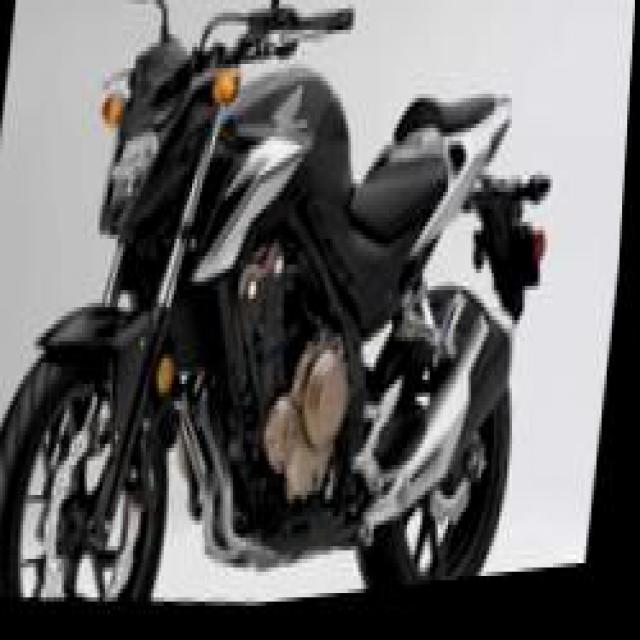CB500F: (0, 0, 579, 636)
